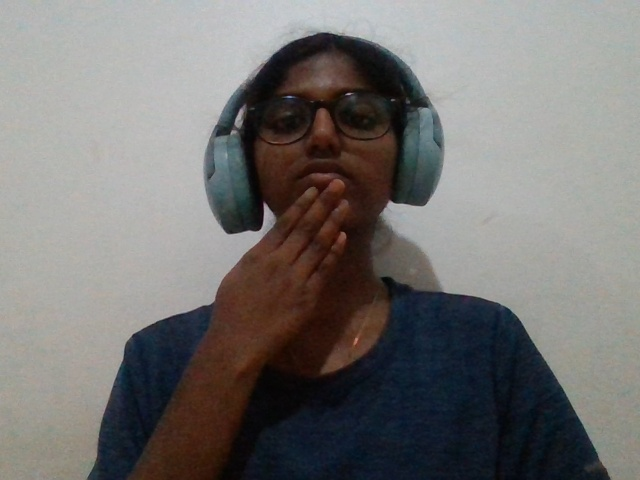Thanks: (178, 166, 421, 451)
